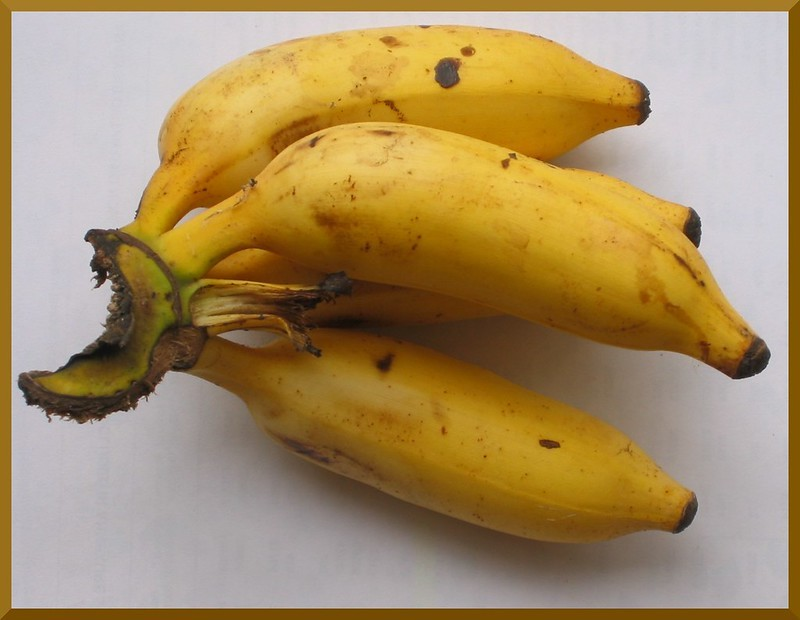banana: (255, 122, 776, 391), (234, 331, 693, 550), (161, 22, 670, 191)
